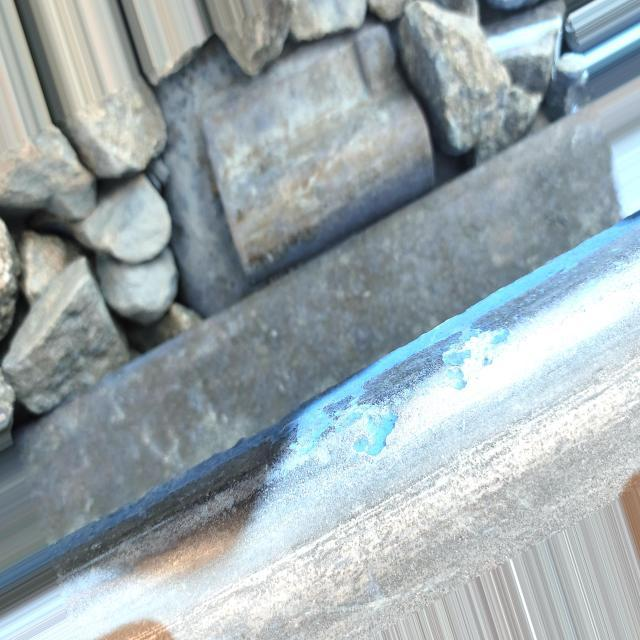Missing Fastener: (204, 23, 434, 284)
